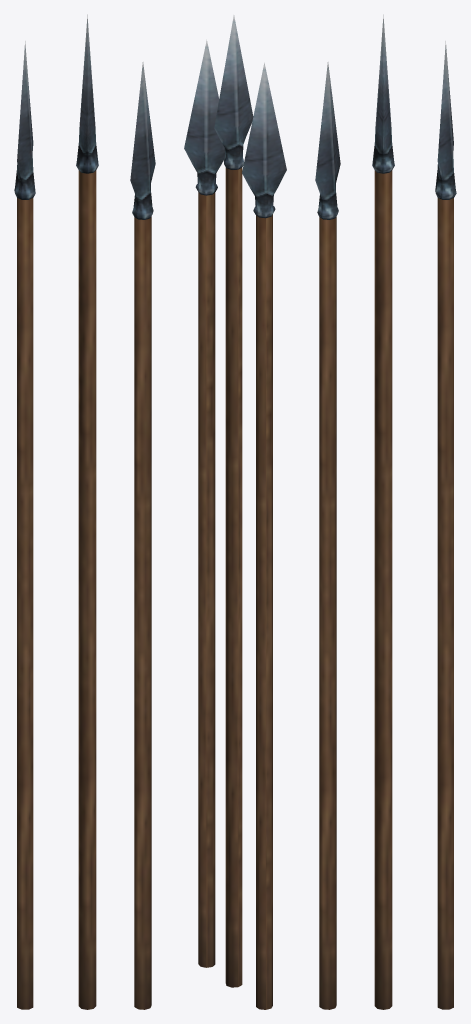
The model's file is Spear01_Weapon_001.FBX.
3 renders of one model, left to right at view 1: azimuth 90°, elevation 25°; view 2: azimuth 210°, elevation 25°; view 3: azimuth 270°, elevation 25°, orthographic. The views are drawn at different scales.
Visible parts, largest first — view 1: Spear01_Weapon_001; view 2: Spear01_Weapon_001; view 3: Spear01_Weapon_001.
Boxes of the visible parts, bbox=[...] form: Spear01_Weapon_001: bbox=[14, 14, 155, 1009]; Spear01_Weapon_001: bbox=[184, 15, 286, 1009]; Spear01_Weapon_001: bbox=[315, 14, 456, 1009].
Size of the model in its own units: 25.3 by 593 by 76.61.
